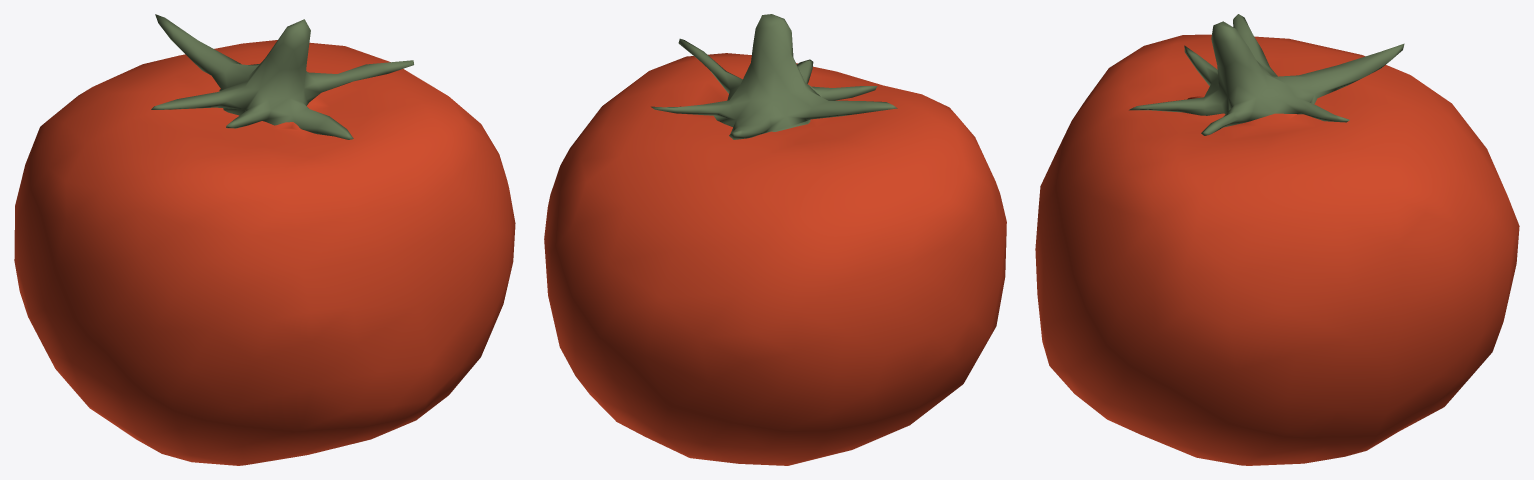
Rendered from tomato-v3.fbx.
3 renders of one model, left to right at view 1: azimuth 30°, elevation 25°; view 2: azimuth 150°, elevation 25°; view 3: azimuth 270°, elevation 25°, orthographic. The views are drawn at different scales.
Parts seen in each view (by area): view 1: tomato; view 2: tomato; view 3: tomato.
Part boxes in pixels (box(x1,y1,x2,y2)): tomato: box(14, 14, 515, 465); tomato: box(544, 14, 1006, 465); tomato: box(1035, 14, 1519, 465).
Bounding box in the file's own units: 265 × 249 × 259.
